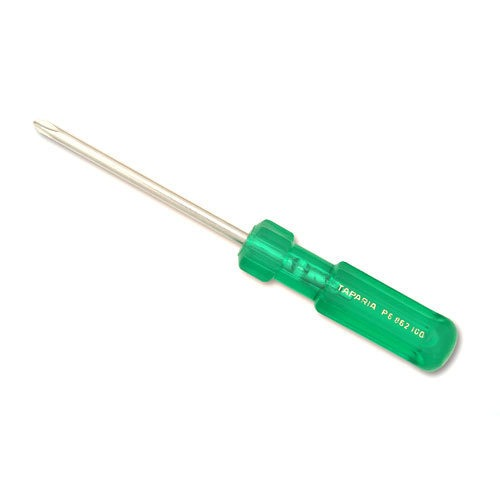screwdriver: (24, 105, 463, 378)
